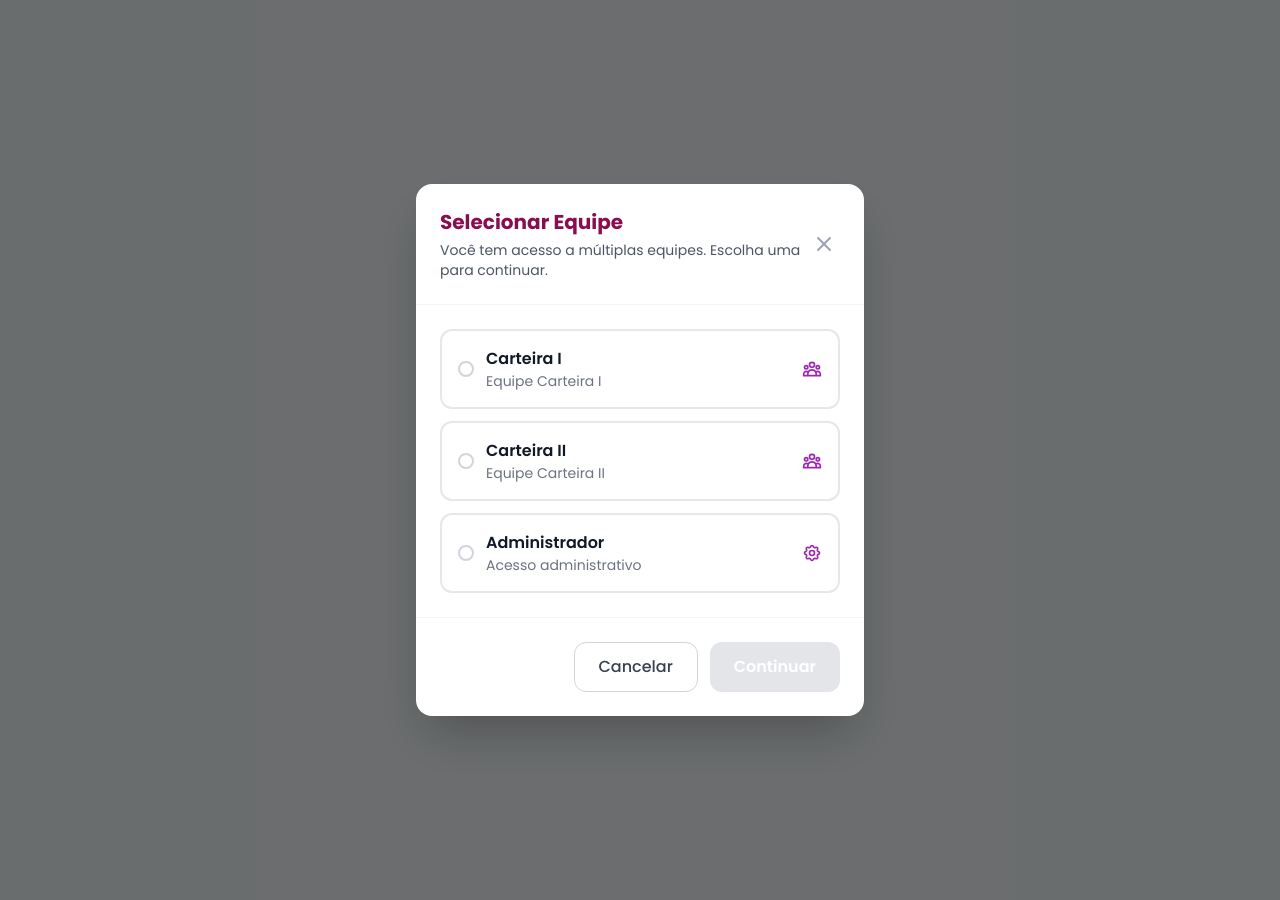
TeamSelectionModal › Team Selection › should enable continue button when team is selected
Expected: the button "Continuar" is disabled, [710,642,840,692]
Click the button "Carteira I Equipe Carteira I" at (524, 358), box [440,329,840,409]
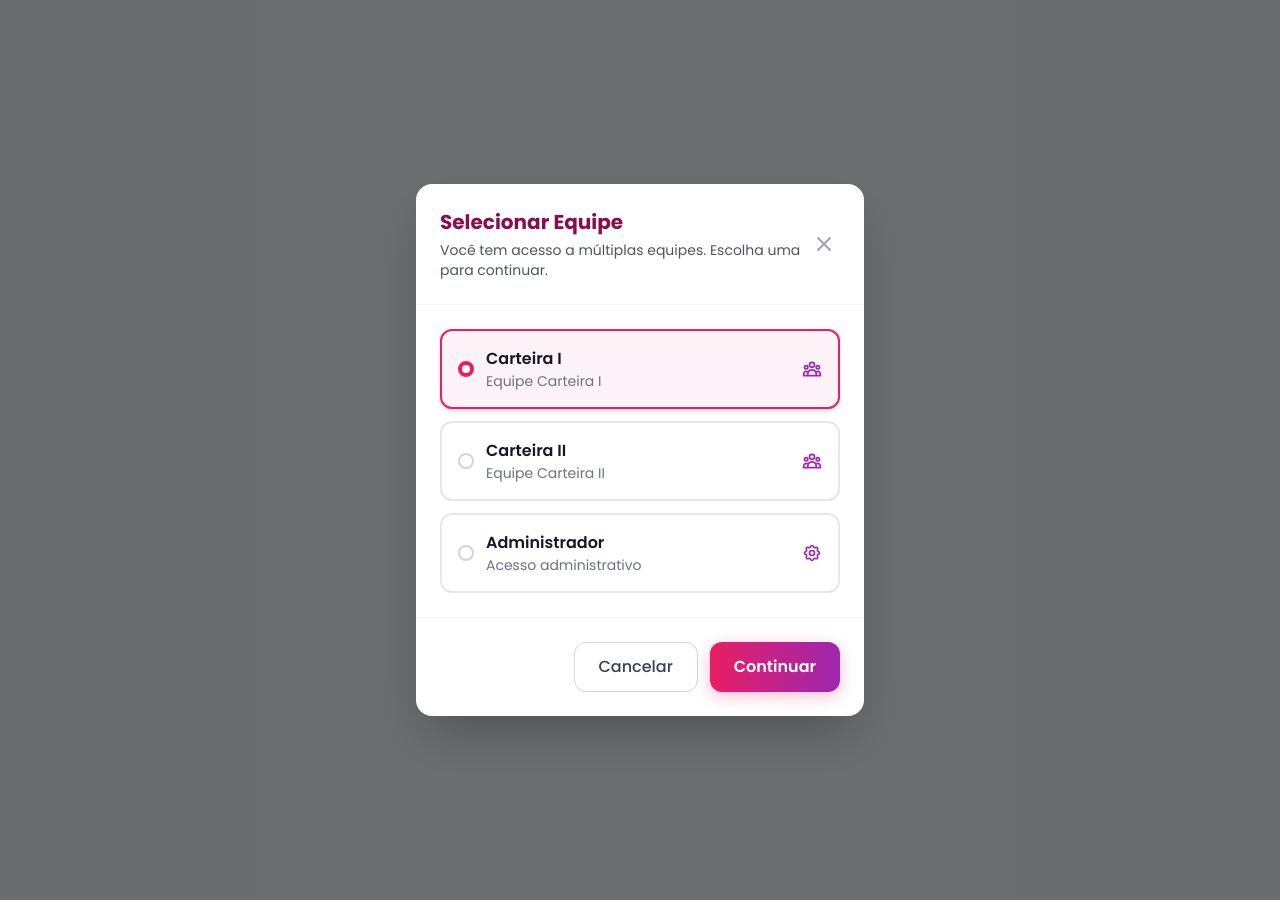
Now the button "Continuar" is enabled, box [710,642,840,692]
